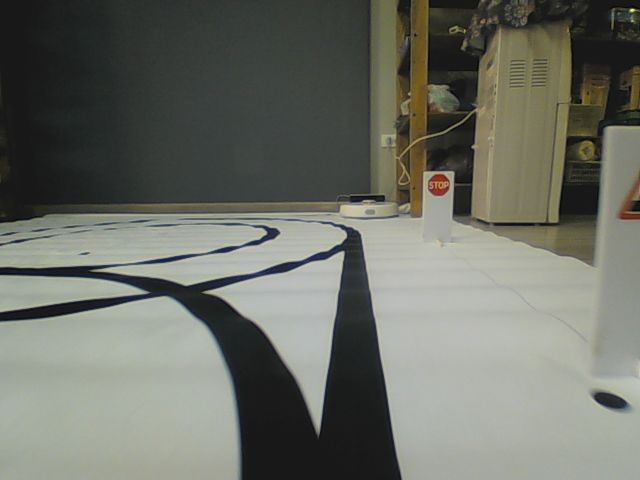Stop: (427, 173, 451, 197)
